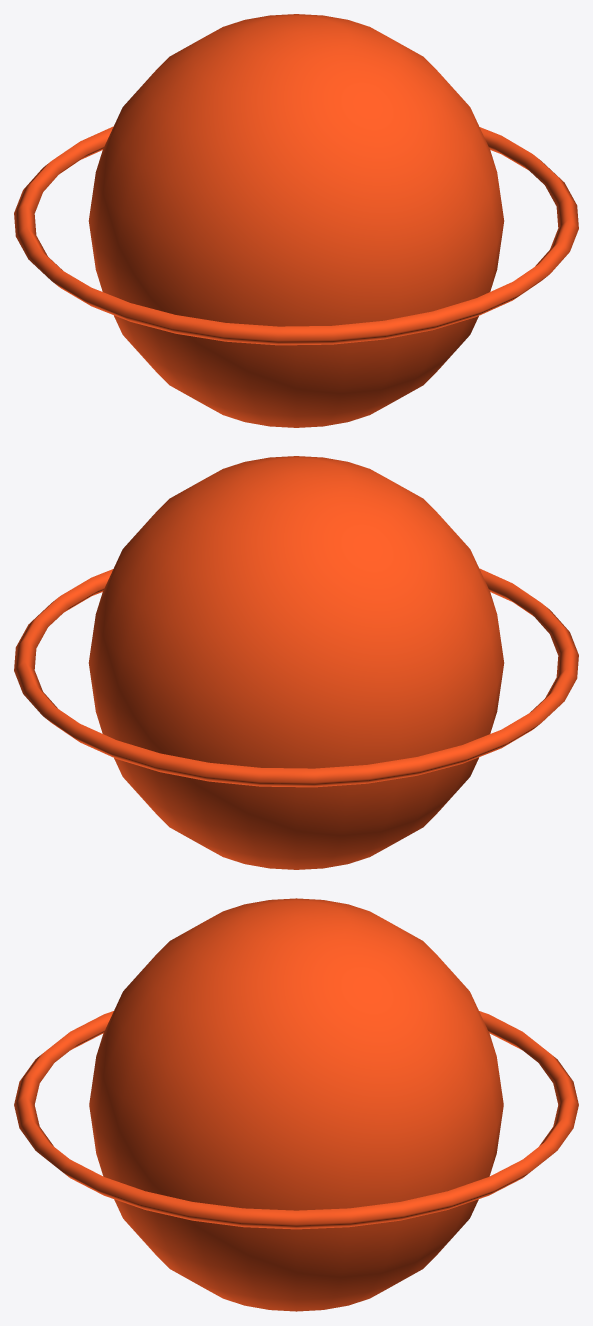
Rendered from pulsglut.obj.
3 views of the same model, one above another, from view 1: azimuth 30°, elevation 25°; view 2: azimuth 150°, elevation 25°; view 3: azimuth 270°, elevation 25° (orthographic).
Visible parts, largest first — view 1: Pulsglut; view 2: Pulsglut; view 3: Pulsglut.
Part boxes in pixels (<box>): Pulsglut: <box>14,14,578,427</box>; Pulsglut: <box>14,456,578,869</box>; Pulsglut: <box>14,898,578,1311</box>.
Bounding box in the file's own units: 2.18 × 1.6 × 2.18.
